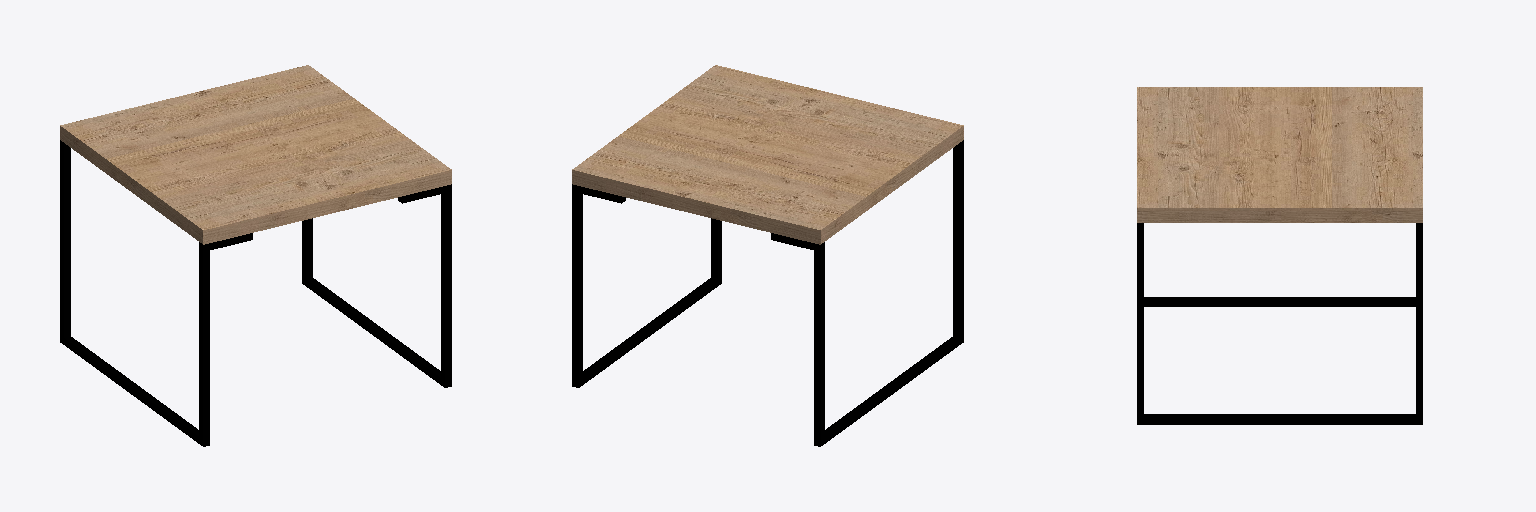
3 renders of one model, left to right at view 1: azimuth 30°, elevation 25°; view 2: azimuth 150°, elevation 25°; view 3: azimuth 270°, elevation 25°, orthographic.
Parts seen in each view (by area): view 1: Box001.010, Box012.010, Box008.004, Box013.010, Box010.010, Box011.010, Box009.004; view 2: Box001.010, Box013.010, Box009.004, Box012.010, Box010.010, Box011.010, Box008.004; view 3: Box001.010, Box010.010, Box011.010, Box009.004, Box008.004.
Part boxes in pixels (left/top/right/bottom): Box001.010: left=60, top=65, right=451, bottom=244; Box012.010: left=199, top=233, right=252, bottom=446; Box008.004: left=398, top=184, right=451, bottom=387; Box013.010: left=60, top=140, right=70, bottom=344; Box010.010: left=306, top=277, right=440, bottom=384; Box011.010: left=64, top=336, right=198, bottom=443; Box009.004: left=302, top=218, right=312, bottom=285; Box001.010: left=572, top=65, right=963, bottom=244; Box013.010: left=771, top=233, right=824, bottom=446; Box009.004: left=572, top=184, right=625, bottom=387; Box012.010: left=953, top=140, right=963, bottom=344; Box010.010: left=583, top=277, right=717, bottom=384; Box011.010: left=825, top=336, right=959, bottom=443; Box008.004: left=711, top=218, right=721, bottom=285; Box001.010: left=1137, top=87, right=1422, bottom=222; Box010.010: left=1144, top=414, right=1415, bottom=424; Box011.010: left=1144, top=297, right=1415, bottom=306; Box009.004: left=1416, top=223, right=1422, bottom=424; Box008.004: left=1137, top=223, right=1143, bottom=424.
Size of the model in its own units: 35.43 by 29.53 by 35.43.
Materials: 2 (1 with a texture image).